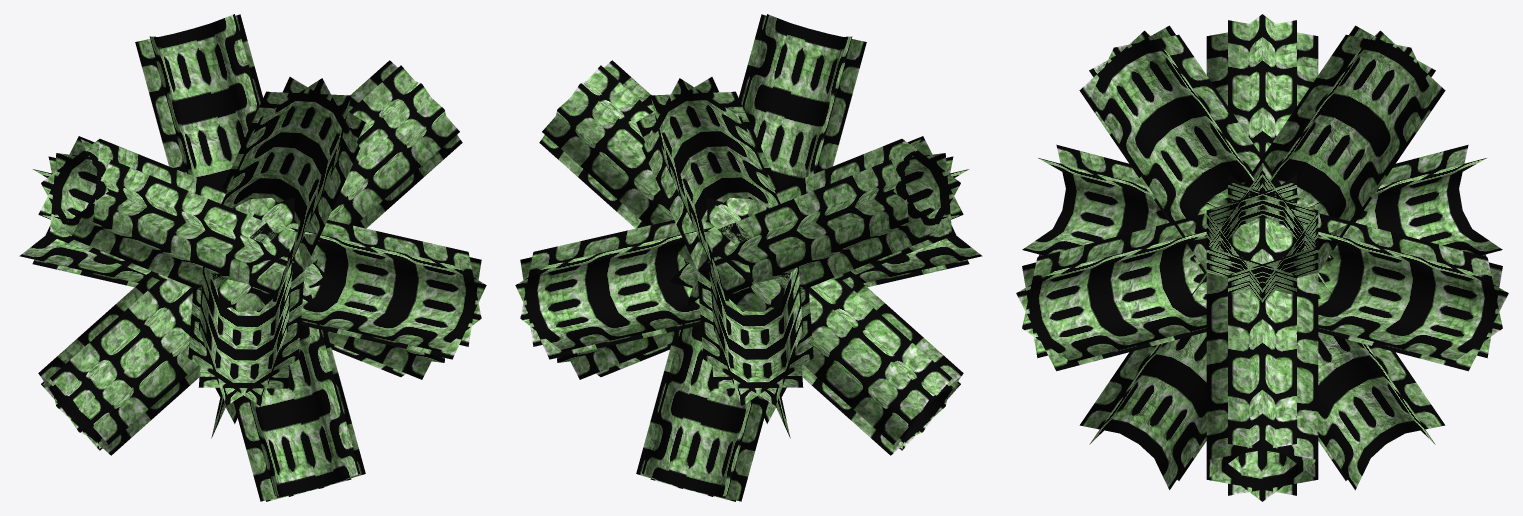
The model's file is GreatDodecahemidodecacron2.gltf.
The picture shows the model from 3 angles, left to right: view 1: azimuth 30°, elevation 25°; view 2: azimuth 150°, elevation 25°; view 3: azimuth 270°, elevation 25°; orthographic projection. The views are drawn at different scales.
Visible parts, largest first — view 1: GreatDodecahemidodecacron; view 2: GreatDodecahemidodecacron; view 3: GreatDodecahemidodecacron.
Part boxes in pixels (x1=…): GreatDodecahemidodecacron: x1=19, y1=14, x2=486, y2=501; GreatDodecahemidodecacron: x1=515, y1=14, x2=982, y2=501; GreatDodecahemidodecacron: x1=1016, y1=14, x2=1508, y2=501.
Size of the model in its own units: 13.61 by 13.61 by 13.61.
Materials: 1 (1 with a texture image).
